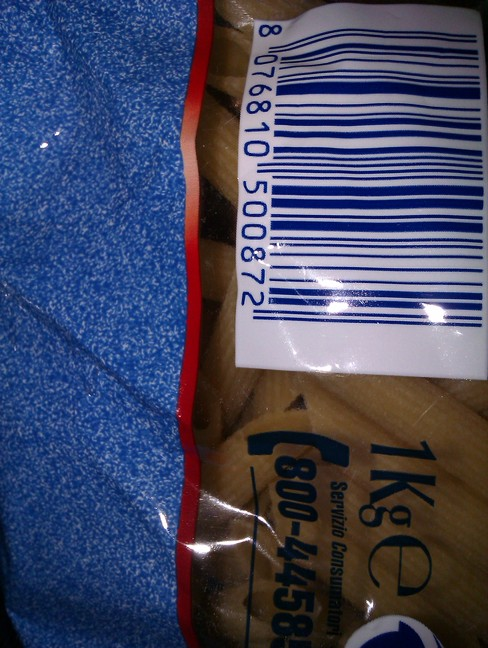barcode: (230, 11, 488, 355)
